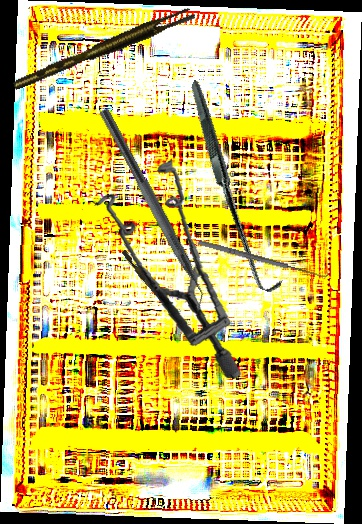Chopper: (85, 106, 219, 320)
Hook Surgical: (131, 79, 340, 296), (197, 234, 330, 281)
Pusher: (119, 249, 198, 339)
Speculum: (77, 152, 264, 380)
Tissue Forceps: (9, 5, 198, 91)
